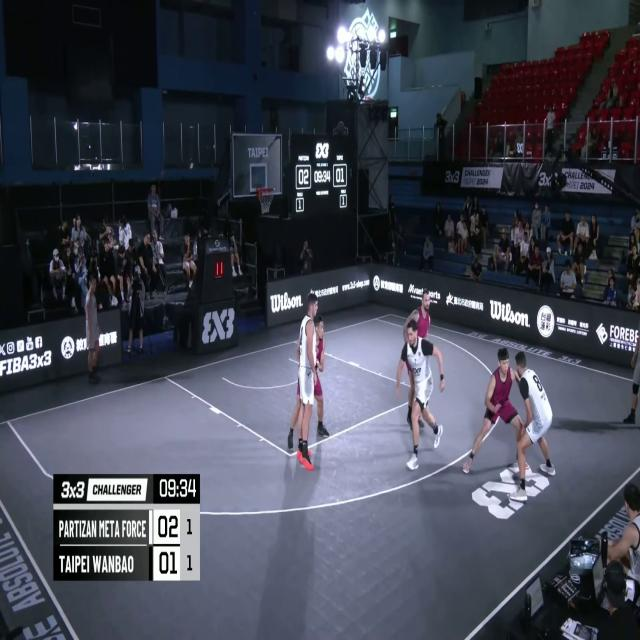hoop: (256, 184, 276, 218)
player: (465, 348, 528, 483), (506, 347, 556, 503), (278, 316, 329, 449), (401, 320, 444, 476), (404, 282, 435, 430), (292, 294, 318, 469)
